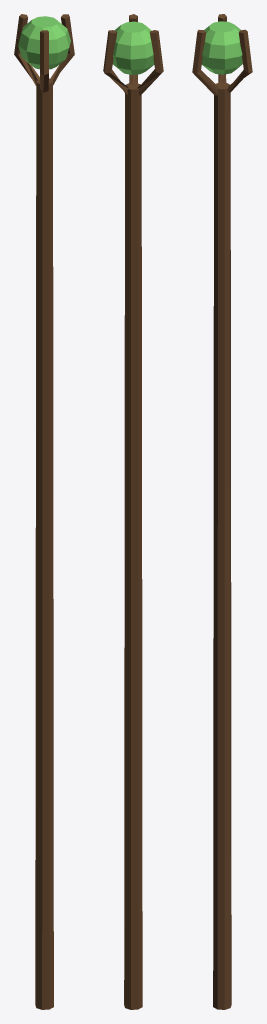
File: g-staff.glb
3 views of the same model, side by side, from view 1: azimuth 30°, elevation 25°; view 2: azimuth 210°, elevation 25°; view 3: azimuth 330°, elevation 25° (orthographic).
Parts seen in each view (by area): view 1: g-staff; view 2: g-staff; view 3: g-staff.
Part boxes in pixels (box(x1,y1,x2,y2)): g-staff: box(14, 14, 74, 1009); g-staff: box(103, 14, 163, 1009); g-staff: box(192, 14, 252, 1009).
Size of the model in its own units: 0.1001 by 1.81 by 0.1008.
